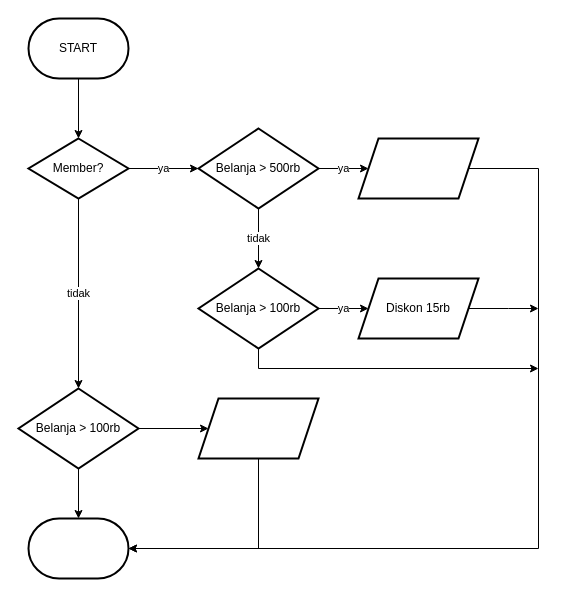
The diagram is 564 pixels wide and 596 high, and some of its shapes have lost their labels. The shapes that lost their labels are listed below. From the top down, each one's box as (x1, y1, x2, y2) in pixels, then its label:
(357, 137, 479, 199): Diskon 50rb
(197, 397, 319, 459): Diskon 10rb
(27, 517, 129, 579): END
